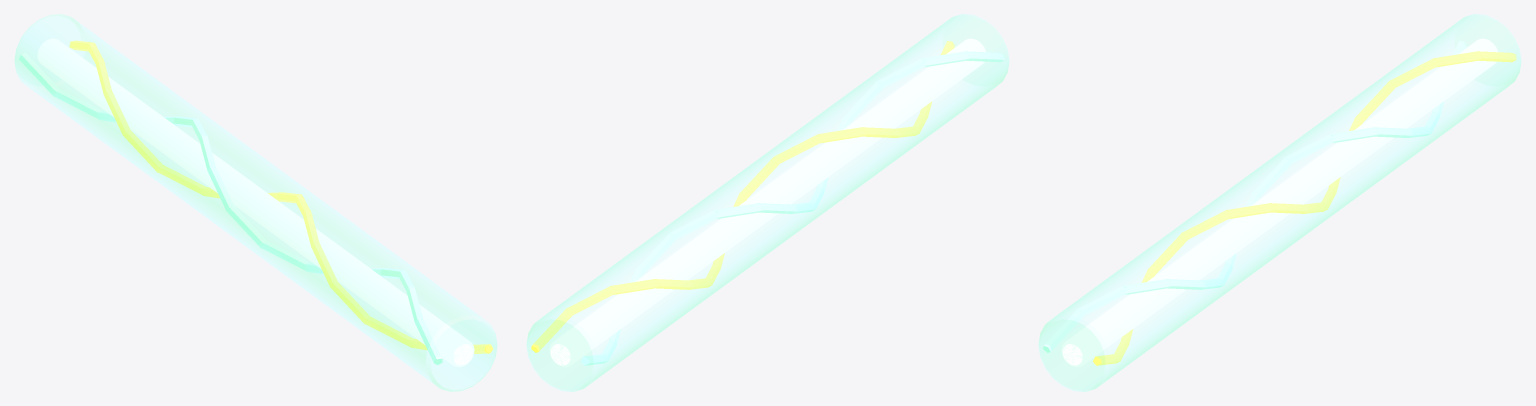
File: heal_beam.glb
3 views of the same model, side by side, from view 1: azimuth 30°, elevation 25°; view 2: azimuth 150°, elevation 25°; view 3: azimuth 330°, elevation 25° (orthographic).
Visible parts, largest first — view 1: glow_tube, core, thread_1_0, thread_1_8, thread_0_12, thread_0_4, thread_1_15, thread_1_1, thread_0_5, thread_0_13, thread_1_9, thread_0_3 (+2 smaller); view 2: glow_tube, core, thread_0_0, thread_1_12, thread_1_4, thread_0_8, thread_0_1, thread_0_9, thread_1_13, thread_1_5, thread_0_2, thread_1_14 (+2 smaller); view 3: glow_tube, core, thread_1_15, thread_0_3, thread_0_11, thread_1_7, thread_1_14, thread_0_2, thread_1_6, thread_0_10, thread_1_13, thread_0_1 (+2 smaller).
Boxes of the visible parts, <box> form: glow_tube: <box>14,14,497,391</box>; core: <box>37,38,474,367</box>; thread_1_0: <box>19,53,59,96</box>; thread_1_8: <box>226,205,266,248</box>; thread_0_12: <box>330,280,370,324</box>; thread_0_4: <box>122,129,162,172</box>; thread_1_15: <box>415,317,442,364</box>; thread_1_1: <box>53,89,102,119</box>; thread_0_5: <box>156,165,205,194</box>; thread_0_13: <box>364,317,413,346</box>; thread_1_9: <box>260,241,309,270</box>; thread_0_3: <box>103,90,129,135</box>; glow_tube: <box>526,14,1009,391</box>; core: <box>549,38,985,367</box>; thread_0_0: <box>531,308,571,352</box>; thread_1_12: <box>844,81,882,122</box>; thread_1_4: <box>637,232,675,274</box>; thread_0_8: <box>740,156,778,198</box>; thread_0_1: <box>567,285,615,315</box>; thread_0_9: <box>774,134,822,163</box>; thread_1_13: <box>878,58,926,87</box>; thread_1_5: <box>670,210,719,239</box>; thread_0_2: <box>611,279,659,294</box>; thread_1_14: <box>923,51,970,67</box>; glow_tube: <box>1038,14,1521,391</box>; core: <box>1061,38,1497,367</box>; thread_1_15: <box>1043,308,1083,352</box>; thread_0_3: <box>1356,81,1394,122</box>; thread_0_11: <box>1149,232,1187,274</box>; thread_1_7: <box>1252,156,1290,198</box>; thread_1_14: <box>1079,285,1127,315</box>; thread_0_2: <box>1390,58,1438,87</box>; thread_1_6: <box>1286,134,1334,163</box>; thread_0_10: <box>1182,210,1231,239</box>; thread_1_13: <box>1123,279,1171,294</box>; thread_0_1: <box>1435,51,1482,67</box>.
Bounding box in the file's own units: 0.1 × 0.1 × 1.01.
